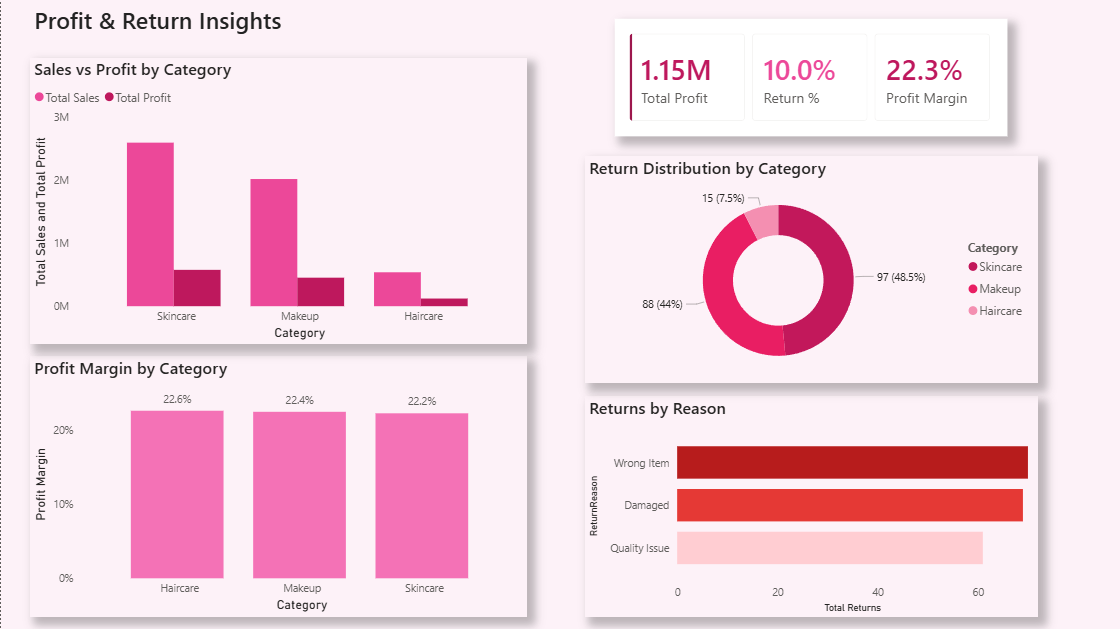

The dashboard page shown, as its layout file describes it:
{"tool":"powerbi","page":{"name":"Profit & Return Insights","canvas":[1280,720],"ordinal":1},"visuals":[{"type":"textbox","box":[32.9,0,408.6,55.7],"z":0},{"type":"clusteredColumnChart","title":"Sales vs Profit by Category","fields":{"Category":["Nykaa_Sales.Category"],"Y":["Measure_Table.Total Sales","Measure_Table.Total Profit"]},"box":[32.9,65.9,568.1,328],"z":1000},{"type":"cardVisual","fields":{"Data":["Measure_Table.Total Profit","Measure_Table.Return %","Measure_Table.Profit Margin"]},"box":[701.2,22,448.7,134.5],"z":2000},{"type":"clusteredColumnChart","title":"Profit Margin by Category","fields":{"Category":["Nykaa_Sales.Category"],"Y":["Measure_Table.Profit Margin"]},"box":[32.9,407.5,568.1,297.8],"z":3000},{"type":"donutChart","title":"Return Distribution by Category","fields":{"Category":["Nykaa_Sales.Category"],"Y":["Measure_Table.Total Returns"]},"box":[666.9,178.4,518.7,259.3],"z":4000},{"type":"clusteredBarChart","title":"Returns by Reason","fields":{"Category":["Nykaa_Returns.ReturnReason"],"Y":["Measure_Table.Total Returns"]},"box":[666.9,452.8,518.7,252.5],"z":5000}]}

Visuals, with their boxes in screenshot pixels (x1, y1, x2, y2), scaled from the page's 1280x720 canvas onto the 1120x629 screenshot:
textbox: 29/0/386/49
"Sales vs Profit by Category" clusteredColumnChart: 29/58/526/344
cardVisual - Measure_Table.Total Profit x Measure_Table.Return %: 614/19/1006/137
"Profit Margin by Category" clusteredColumnChart: 29/356/526/616
"Return Distribution by Category" donutChart: 584/156/1037/382
"Returns by Reason" clusteredBarChart: 584/396/1037/616
